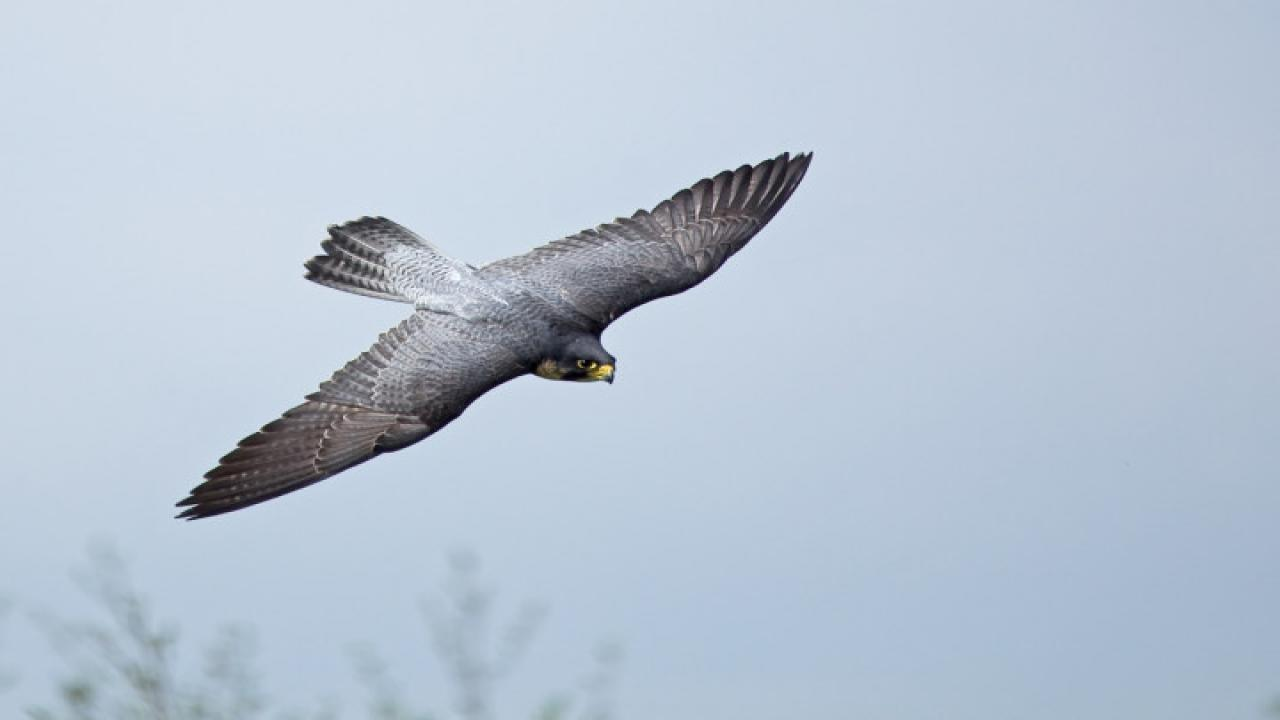Bird: (165, 138, 823, 534)
